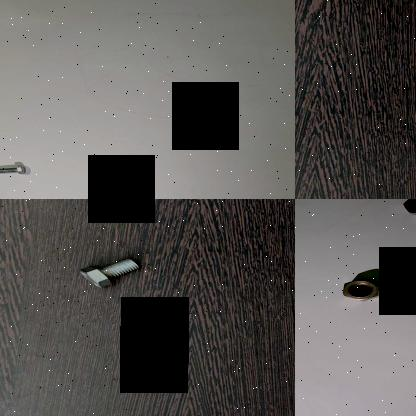Bolts: (78, 256, 144, 288), (0, 161, 31, 177)
NUTS: (338, 276, 386, 300), (388, 258, 416, 275), (401, 199, 416, 215)
